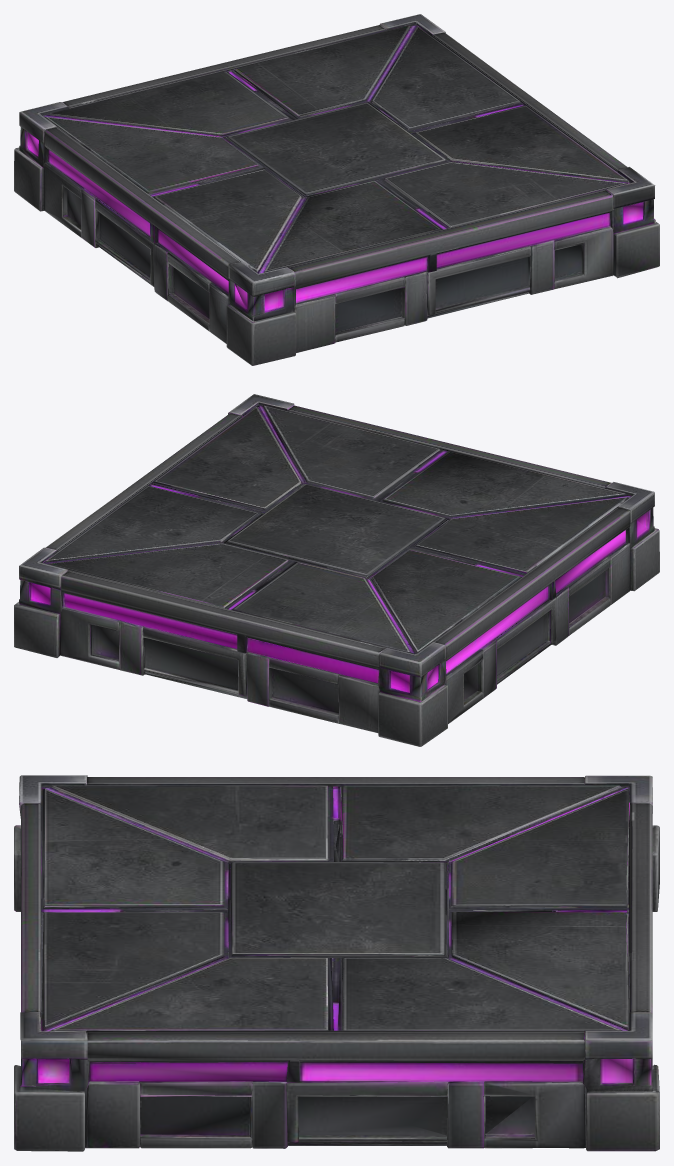
Rendered from floor_opt.glb.
3 views of the same model, one above another, from view 1: azimuth 30°, elevation 25°; view 2: azimuth 150°, elevation 25°; view 3: azimuth 270°, elevation 25° (orthographic). The views are drawn at different scales.
Bounding box in the file's own units: 0.9351 × 0.1812 × 0.9502.
1 material, 1 textured.
